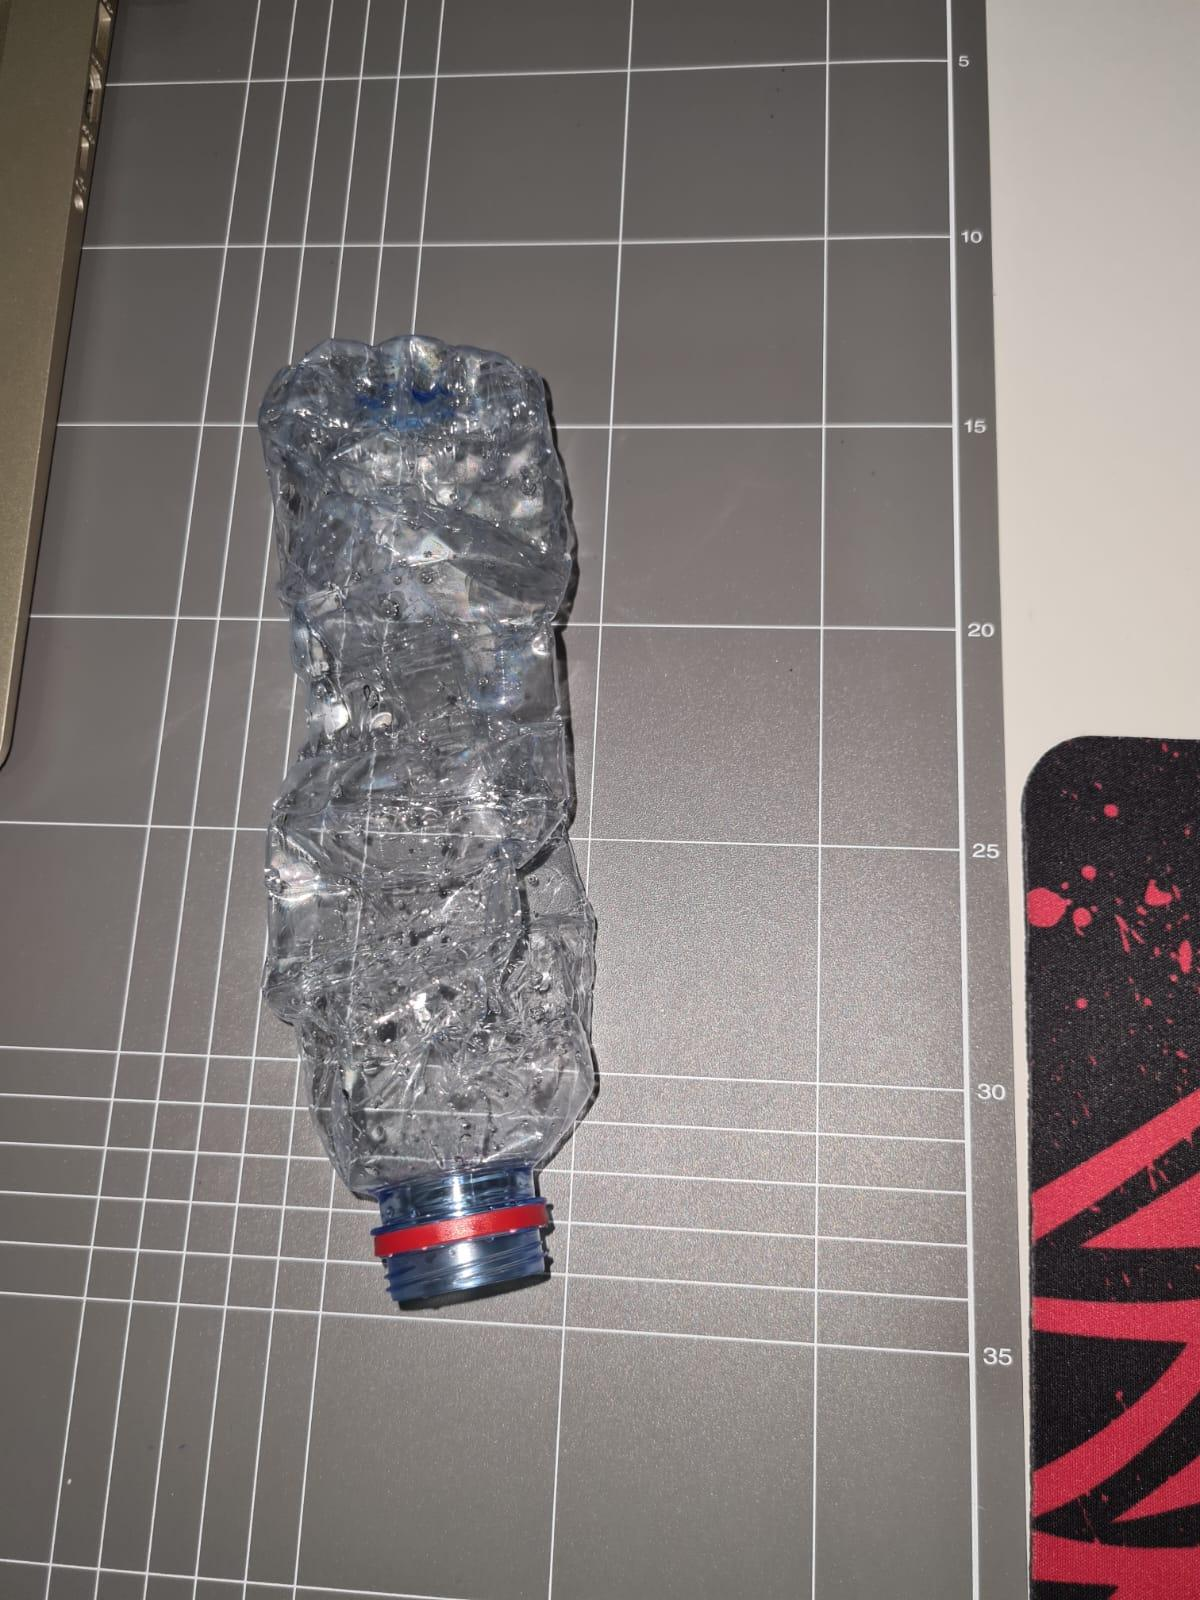bottle: (248, 341, 630, 1304)
